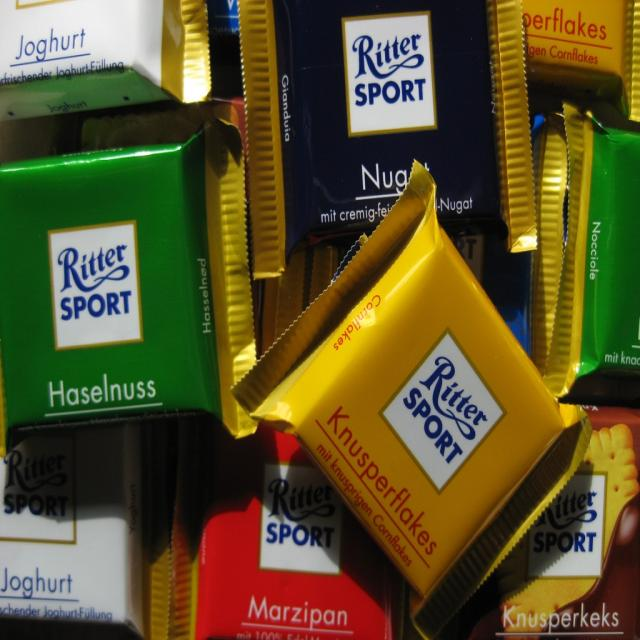rittersport: (382, 329, 503, 490), (49, 222, 146, 353), (342, 11, 439, 137), (257, 464, 347, 578), (528, 472, 608, 583), (2, 430, 79, 545)
